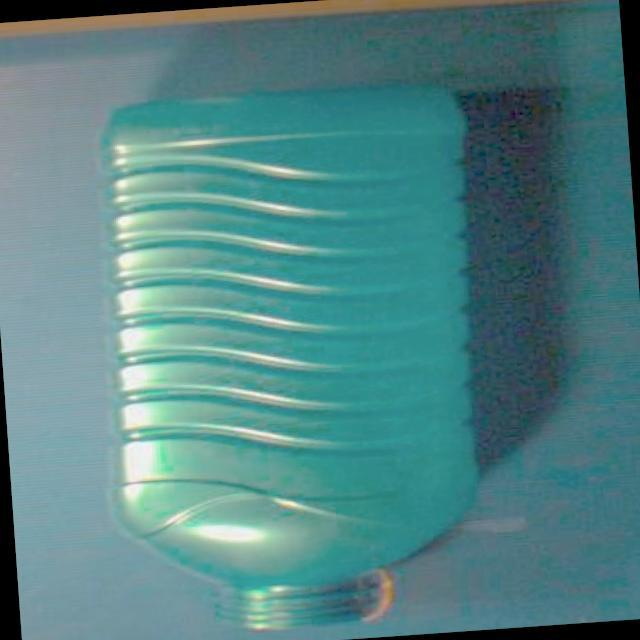HDPE Plastic: (98, 79, 486, 634)
